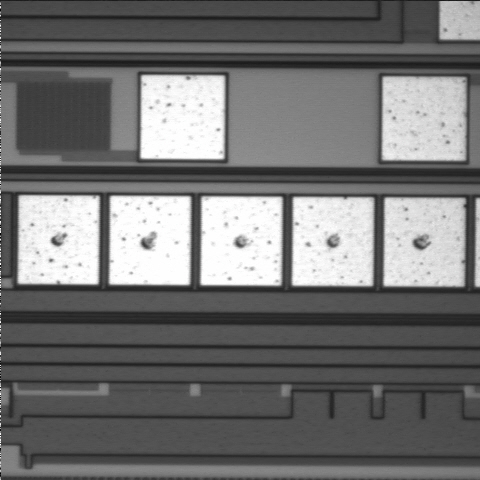pad: (200, 196, 282, 286), (109, 196, 191, 285), (292, 197, 374, 286), (18, 195, 99, 284), (140, 75, 225, 159), (384, 198, 465, 286), (382, 77, 465, 160)
